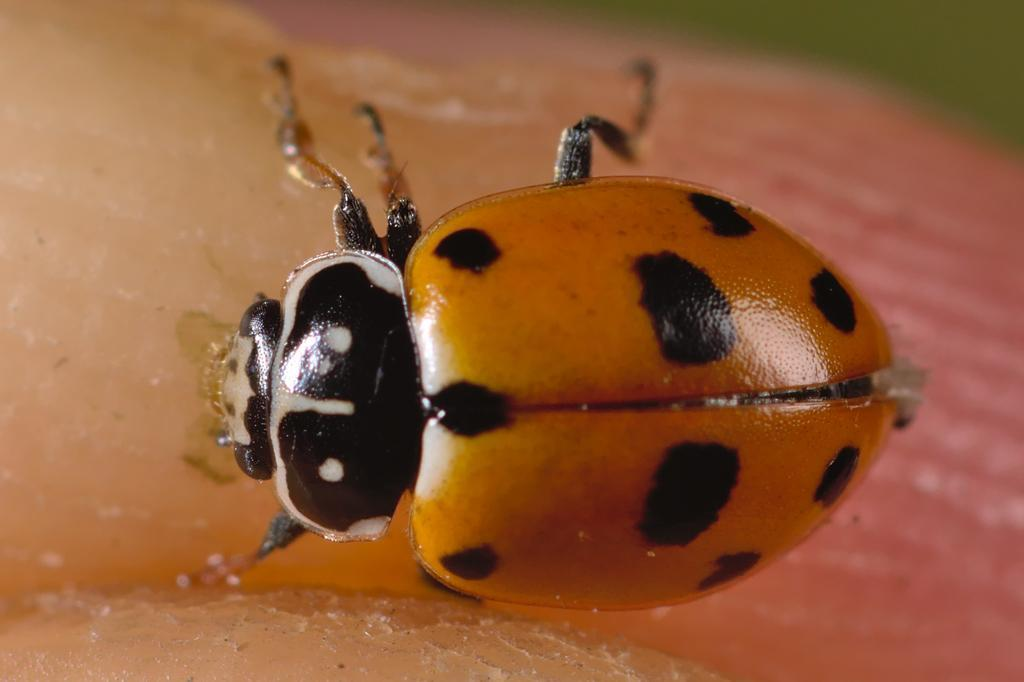ladybug: (179, 51, 933, 615)
